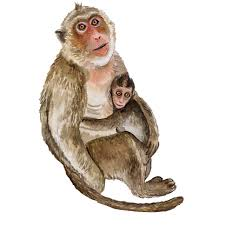monkey: (41, 5, 185, 211), (87, 56, 190, 183)
